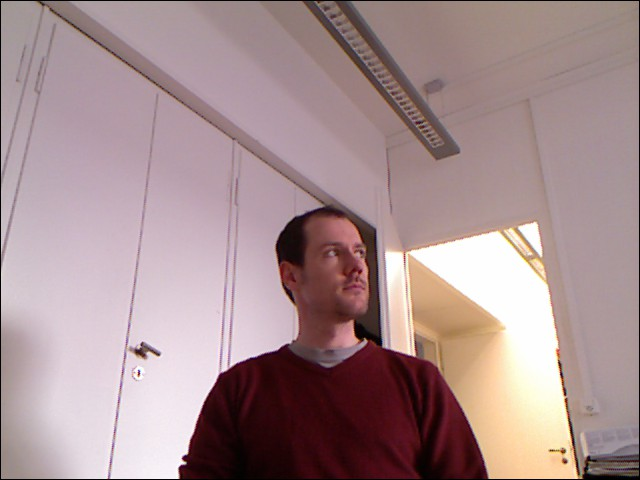deflection: (224, 224, 445, 480)
